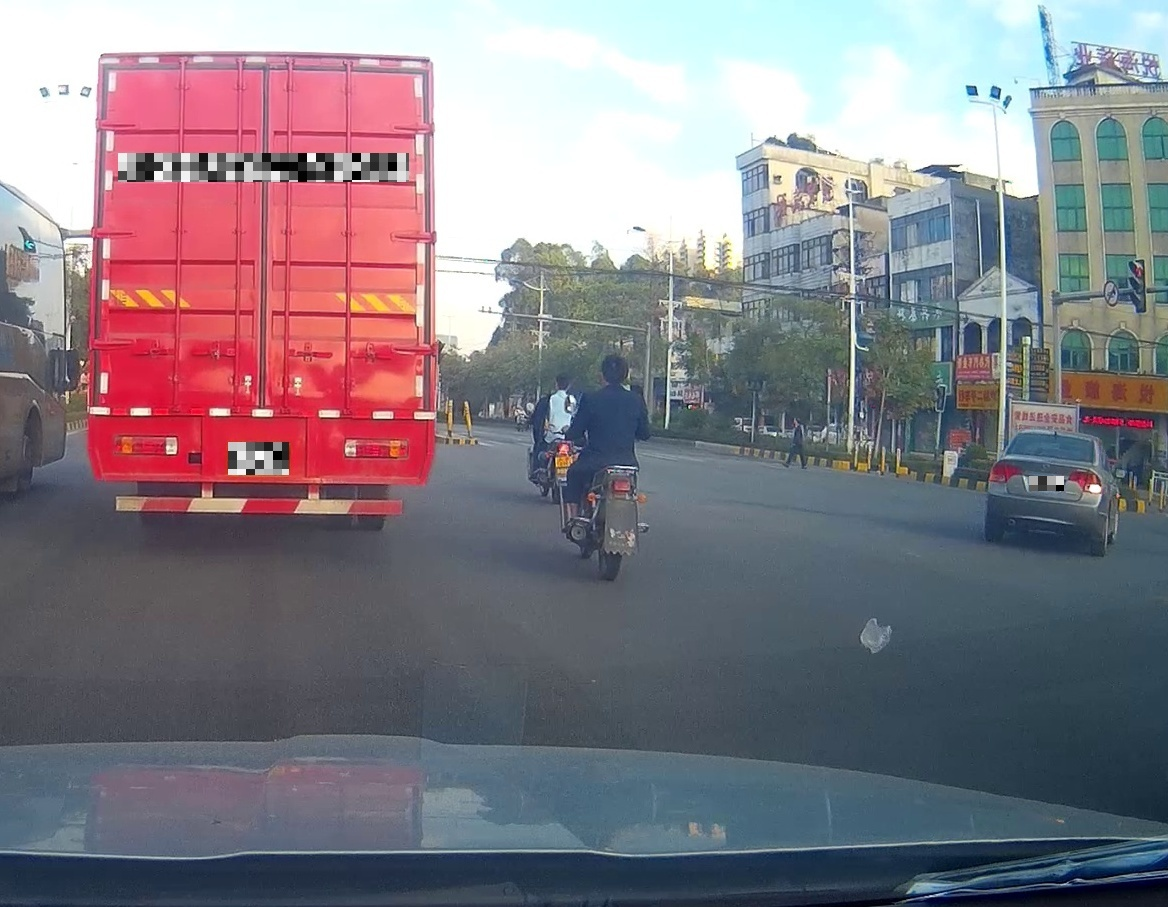L_light: (112, 436, 178, 455), (988, 463, 1023, 482)
R_light: (345, 437, 409, 458), (1068, 469, 1102, 493)
T_light: (241, 68, 287, 86), (1046, 432, 1065, 439)
day-no: (86, 50, 438, 529)
day-right: (986, 429, 1103, 556)
plate_1: (118, 153, 409, 182)
plate_2: (228, 442, 289, 475)
plate_3: (1029, 476, 1064, 491)
